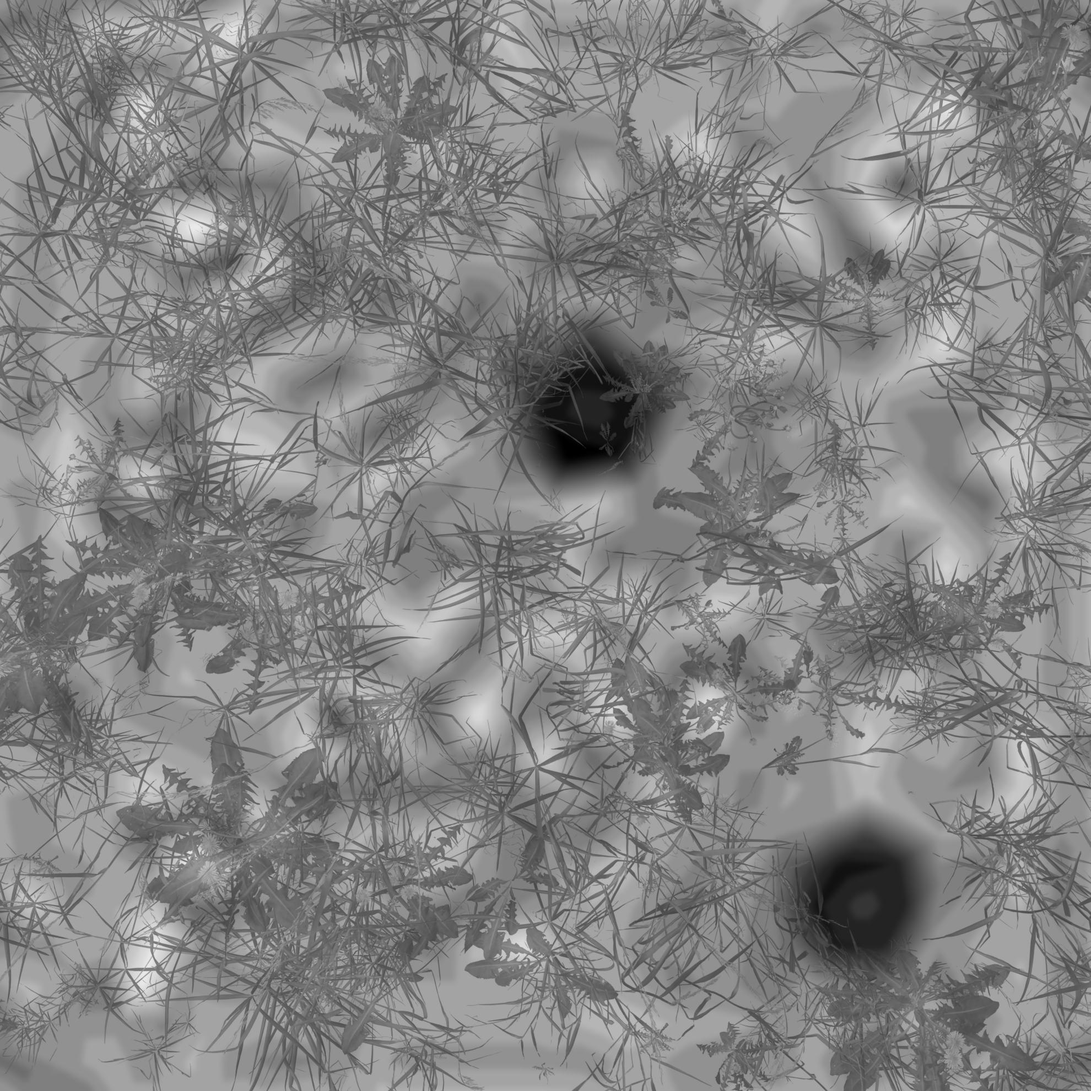landmine: (511, 333, 658, 491), (791, 820, 929, 971)
